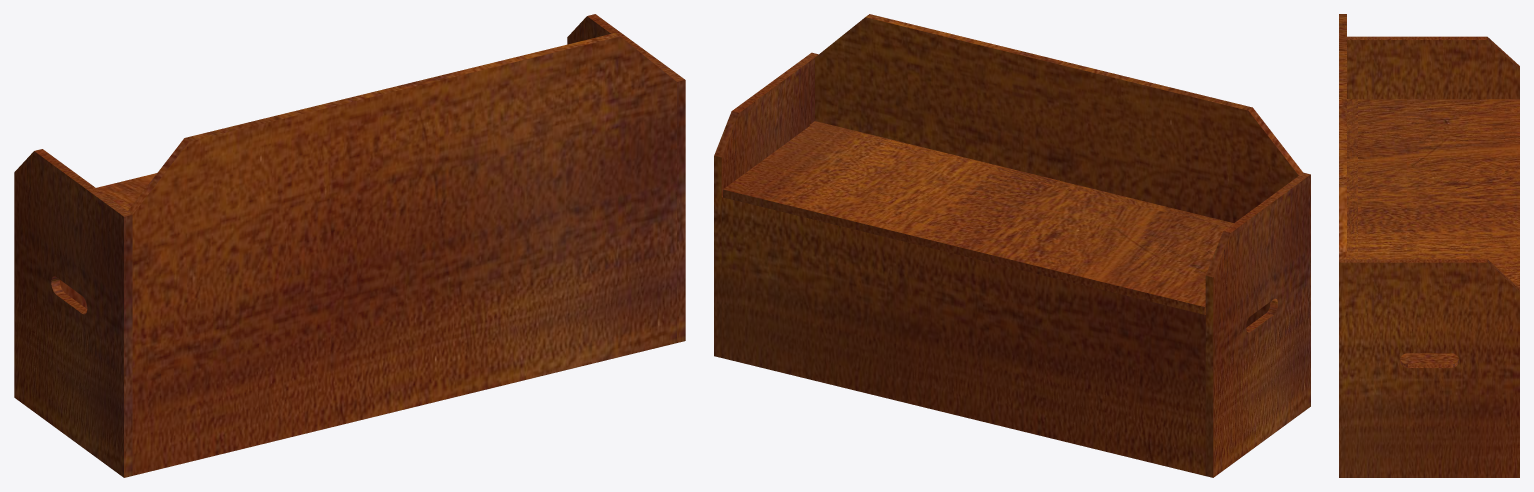
The picture shows the model from 3 angles, left to right: view 1: azimuth 30°, elevation 25°; view 2: azimuth 150°, elevation 25°; view 3: azimuth 270°, elevation 25°; orthographic projection. The views are drawn at different scales.
Visible parts, largest first — view 1: mesh1_mesh1-geometry, mesh5_mesh5-geometry, mesh10_mesh10-geometry; view 2: mesh3_mesh3-geometry, mesh1_mesh1-geometry, mesh10_mesh10-geometry, mesh5_mesh5-geometry, mesh14_mesh14-geometry; view 3: mesh5_mesh5-geometry, mesh10_mesh10-geometry, mesh1_mesh1-geometry, mesh14_mesh14-geometry, mesh8_mesh8-geometry.
Boxes of the visible parts, box(x1,y1,x2,y2) form: mesh1_mesh1-geometry: box(128, 33, 676, 475); mesh5_mesh5-geometry: box(14, 14, 685, 477); mesh10_mesh10-geometry: box(96, 173, 156, 210); mesh3_mesh3-geometry: box(721, 196, 1205, 475); mesh1_mesh1-geometry: box(815, 14, 1302, 327); mesh10_mesh10-geometry: box(723, 125, 1227, 314); mesh5_mesh5-geometry: box(714, 52, 1310, 477); mesh14_mesh14-geometry: box(809, 121, 1233, 227); mesh5_mesh5-geometry: box(1339, 36, 1519, 477); mesh10_mesh10-geometry: box(1358, 99, 1519, 288); mesh1_mesh1-geometry: box(1339, 14, 1346, 259); mesh14_mesh14-geometry: box(1347, 99, 1357, 259); mesh8_mesh8-geometry: box(1400, 353, 1458, 364).
Size of the model in its own units: 0.8415 by 0.459 by 0.2848.
